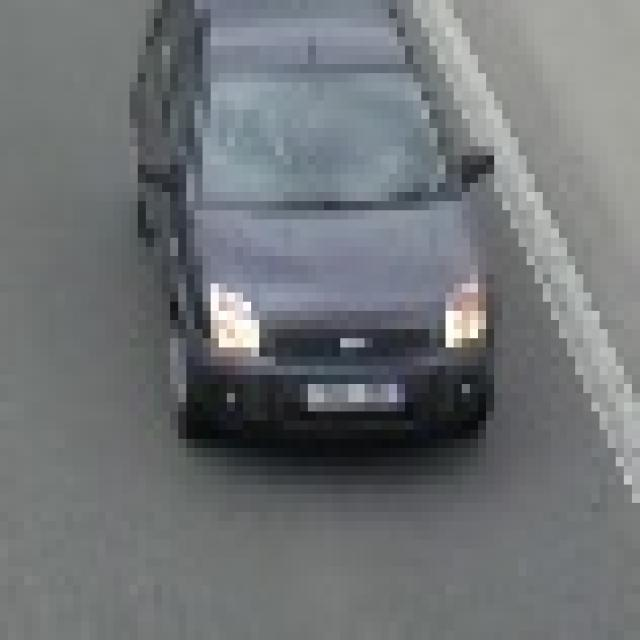SUV: (142, 0, 481, 436)
